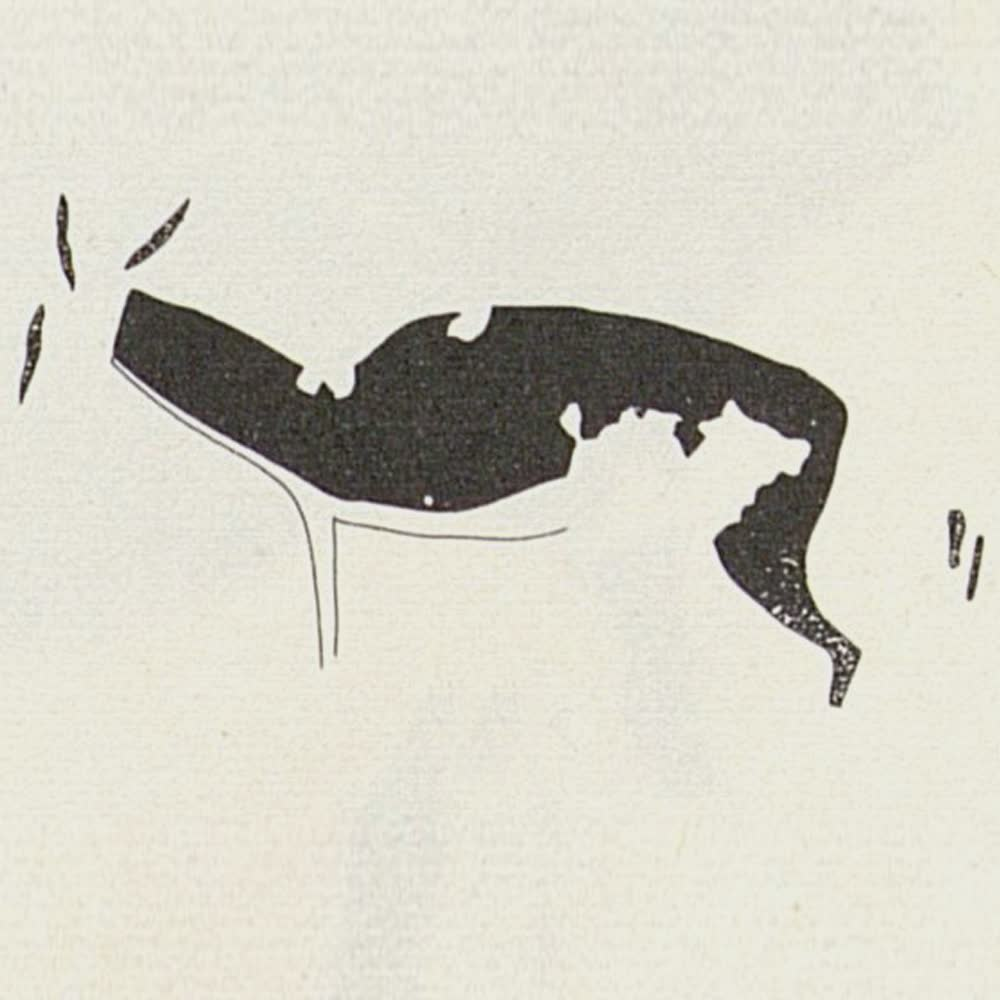animal: (8, 185, 993, 725)
